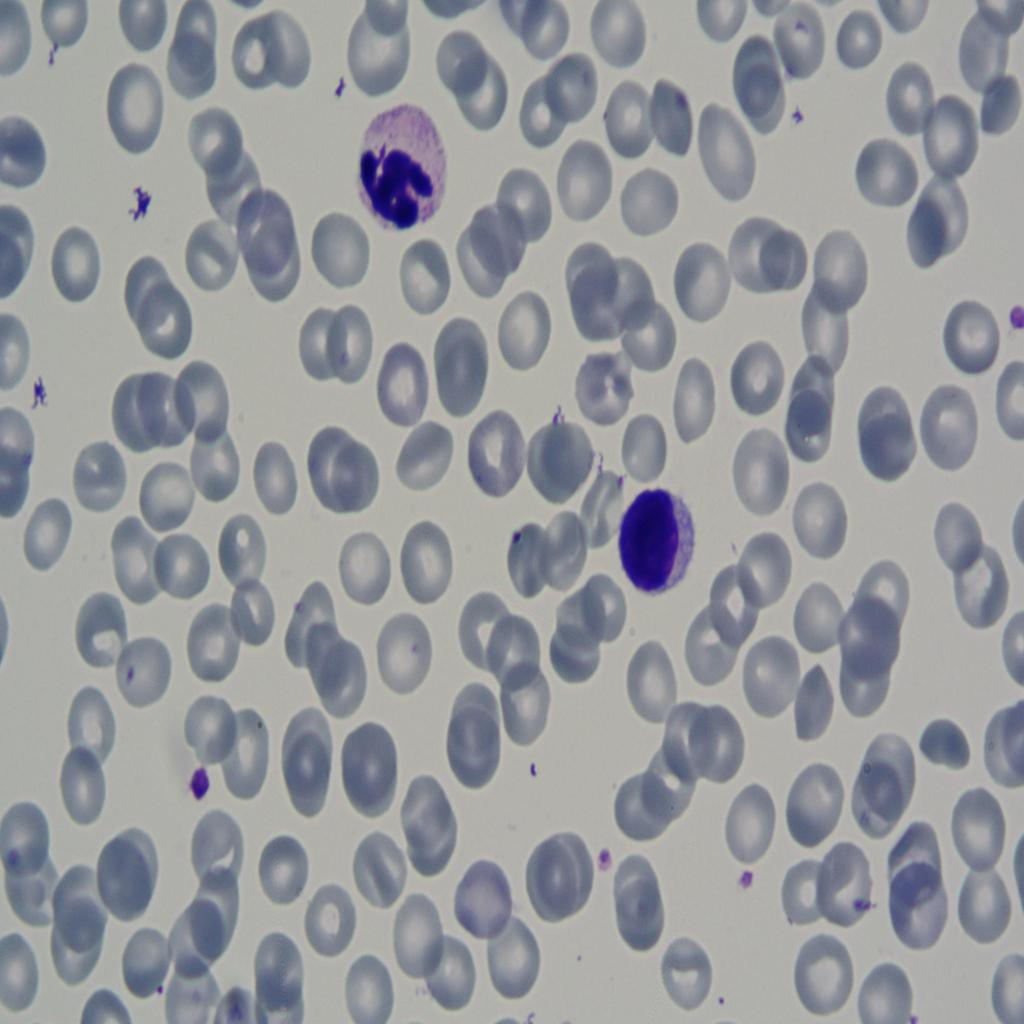Myeoblast: (614, 467, 697, 597)
Neutrofil: (356, 94, 446, 236)
Platelet: (519, 722, 549, 790), (182, 768, 218, 820), (26, 365, 64, 407), (128, 181, 160, 227), (593, 842, 622, 880), (741, 864, 762, 905), (1008, 293, 1024, 341), (789, 106, 801, 129)
